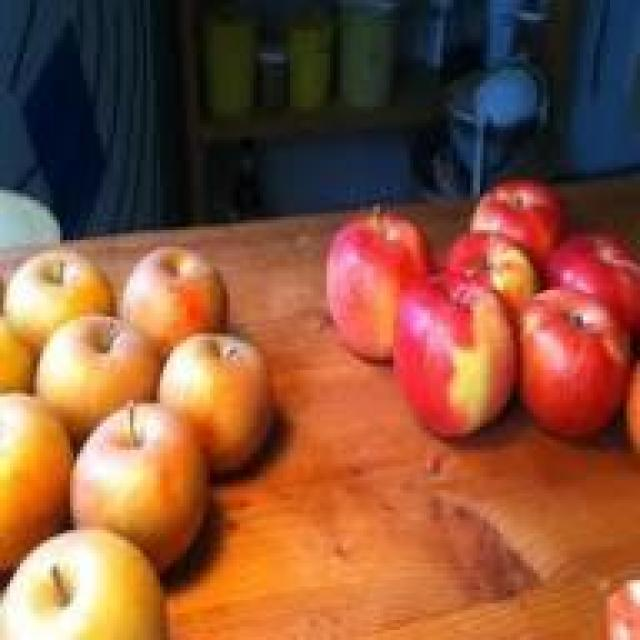apple: (386, 274, 526, 434), (83, 404, 227, 534), (10, 530, 173, 637), (507, 283, 623, 430), (163, 337, 287, 463), (327, 204, 430, 354), (114, 233, 224, 347), (7, 386, 76, 556), (440, 227, 547, 313), (13, 253, 114, 340), (540, 220, 633, 310), (467, 180, 560, 267)
